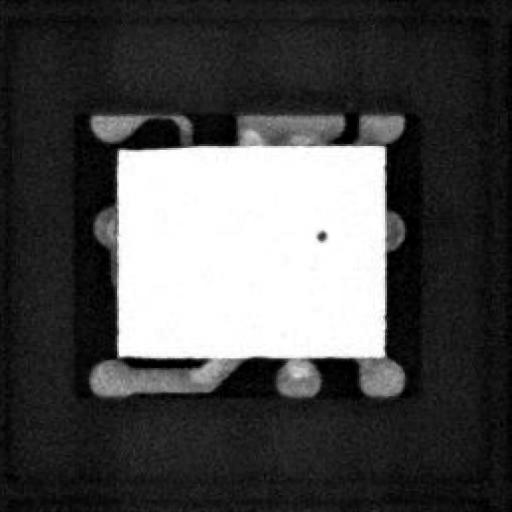DIE_INK: (296, 232, 313, 254)
